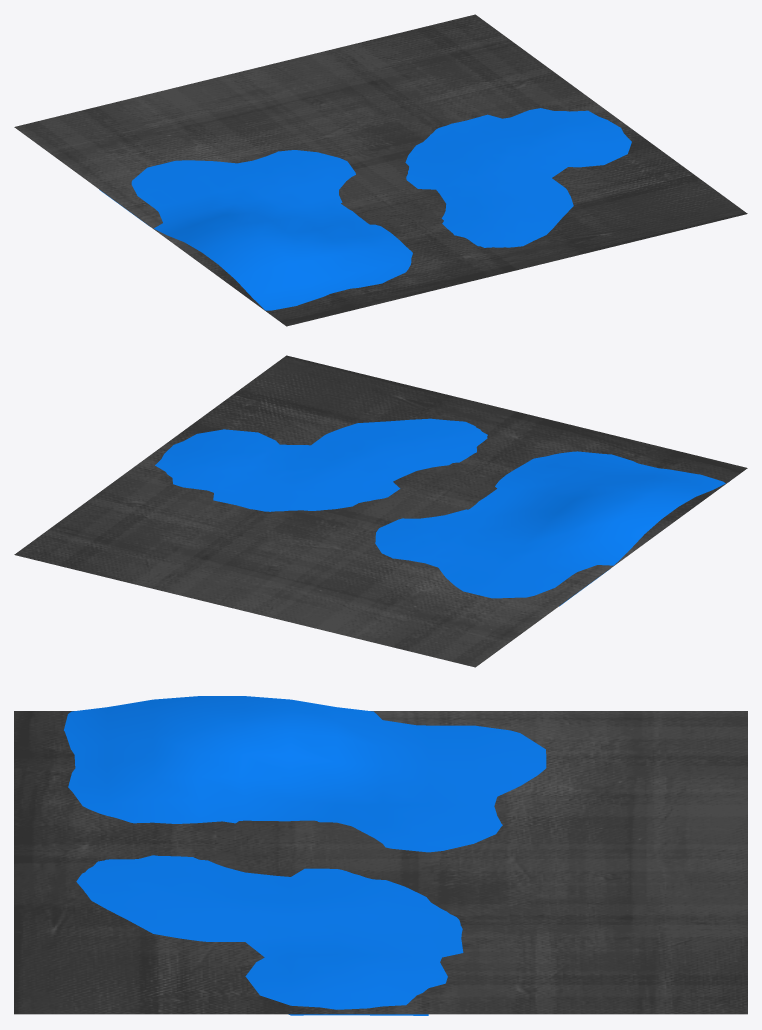
Rendered from Suelos_new.fbx.
The picture shows the model from 3 angles, top to bottom: view 1: azimuth 30°, elevation 25°; view 2: azimuth 150°, elevation 25°; view 3: azimuth 270°, elevation 25°; orthographic projection. The views are drawn at different scales.
Visible parts, largest first — view 1: Plane008, Plane007; view 2: Plane008, Plane007; view 3: Plane008, Plane007.
Part boxes in pixels (x1,y1,x2,y2): Plane008: (14, 14, 747, 326); Plane007: (99, 108, 631, 310); Plane008: (14, 355, 747, 667); Plane007: (155, 418, 725, 606); Plane008: (14, 711, 747, 1014); Plane007: (64, 696, 546, 1015).
Bounding box in the file's own units: 11005 × 392 × 11256.
Materials: 2 (1 with a texture image).
